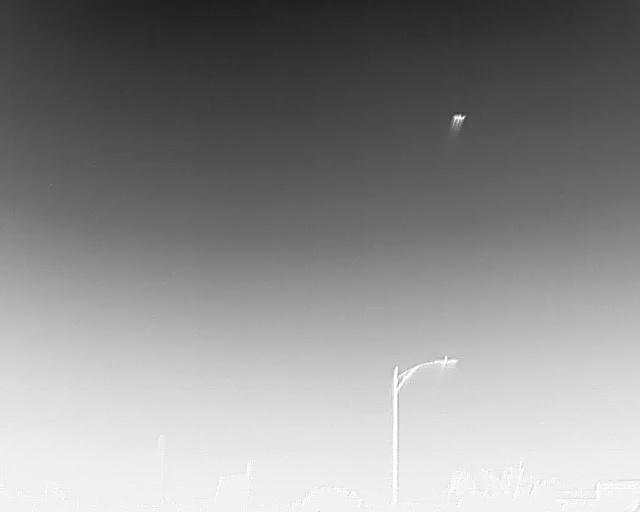fpv-drone: (451, 113, 466, 132)
